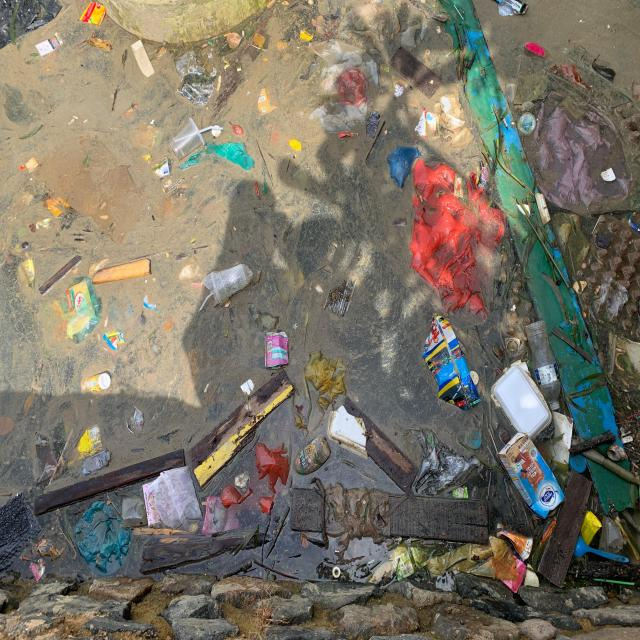Botol Plastik: (525, 319, 563, 412)
Bungkus Makanan: (422, 312, 483, 411), (492, 364, 554, 441), (151, 465, 205, 530), (54, 280, 97, 337), (328, 404, 371, 458), (264, 330, 292, 373), (72, 426, 105, 458), (494, 2, 531, 21), (80, 3, 108, 27)
Bungkus Minuman: (199, 263, 255, 315), (170, 116, 207, 163), (294, 437, 333, 479), (496, 523, 535, 562), (85, 373, 113, 398), (517, 110, 537, 136)
Kantong Plastik: (411, 159, 509, 317), (307, 41, 382, 137), (74, 498, 133, 576), (302, 348, 348, 428), (253, 442, 293, 515), (386, 144, 421, 191)
